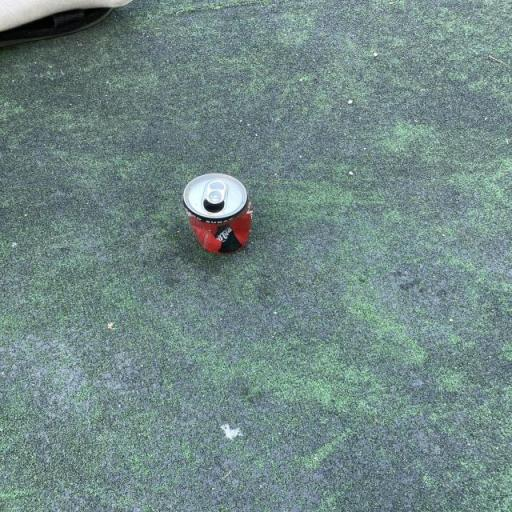metal: (102, 128, 332, 314)
